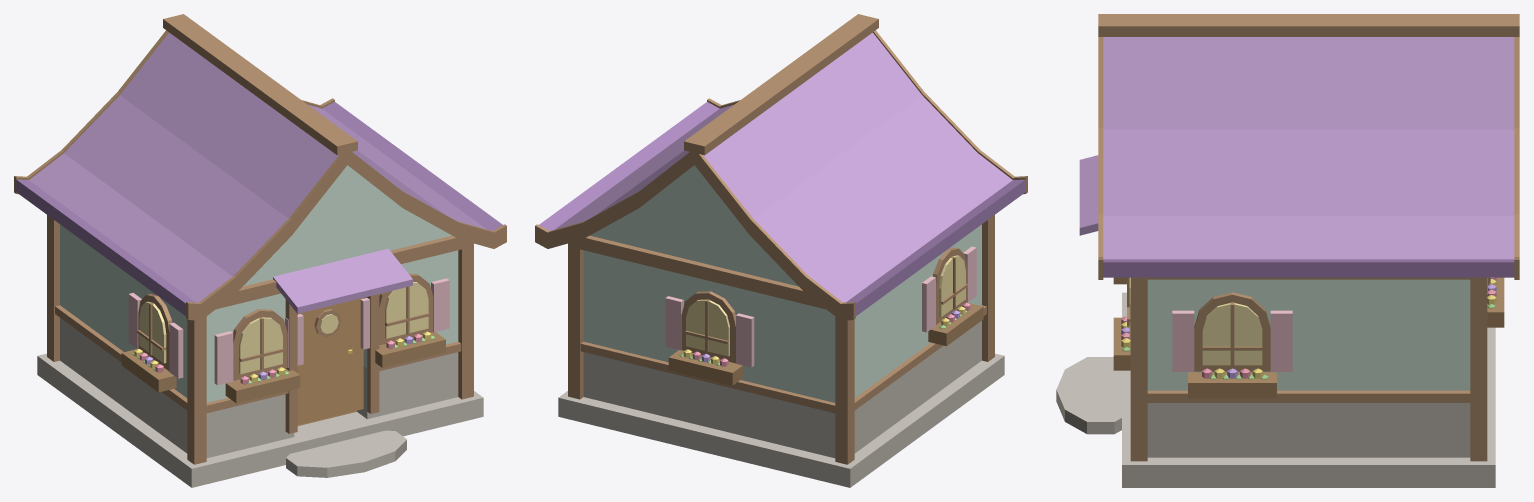
File: cottage_mint.glb
3 views of the same model, side by side, from view 1: azimuth 30°, elevation 25°; view 2: azimuth 150°, elevation 25°; view 3: azimuth 270°, elevation 25° (orthographic). The views are drawn at different scales.
Parts seen in each view (by area): view 1: Player; view 2: Player; view 3: Player.
Part boxes in pixels (x1,y1,x2,y2): Player: (14,14,506,487); Player: (535,14,1027,487); Player: (1056,14,1519,487).
Size of the model in its own units: 5.24 by 4.96 by 5.45.
